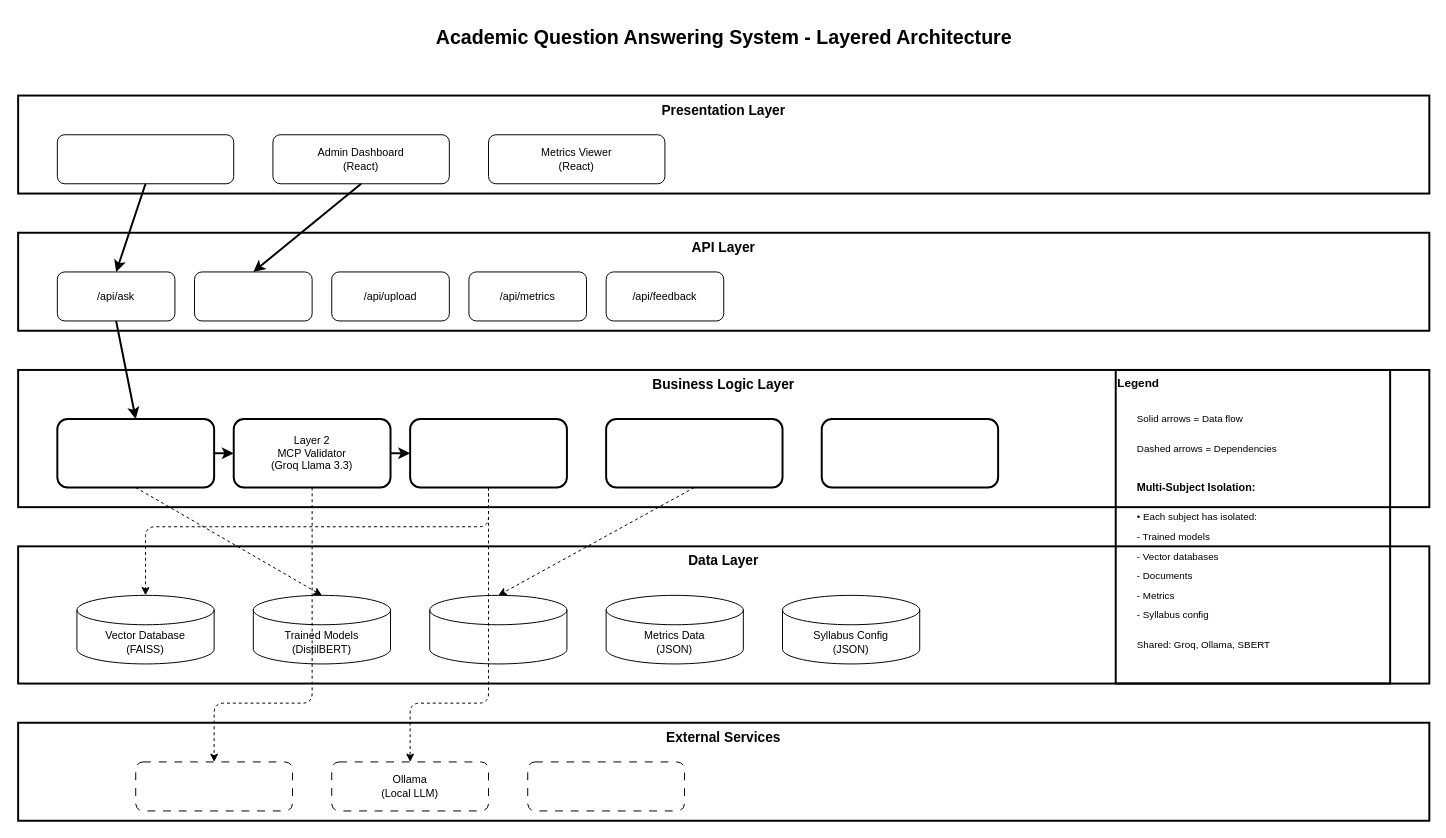
This 1446x838 diagram has some shape labels left out. Each missing label, with the centre of its shape:
/api/train: point 253,296
Documents (PDF Storage): point 498,629
Groq API (Llama 3.3 70B): point 214,786
Layer 1 Syllabus Classifier (DistilBERT): point 135,452
Layer 3 RAG Pipeline (FAISS + Ollama): point 488,452
Metrics Tracker (Usage + Performance): point 909,452
SBERT (Embeddings): point 606,786
Student Interface (React): point 145,159
Training Pipeline (Data Gen + Fine-tuning): point 694,452
